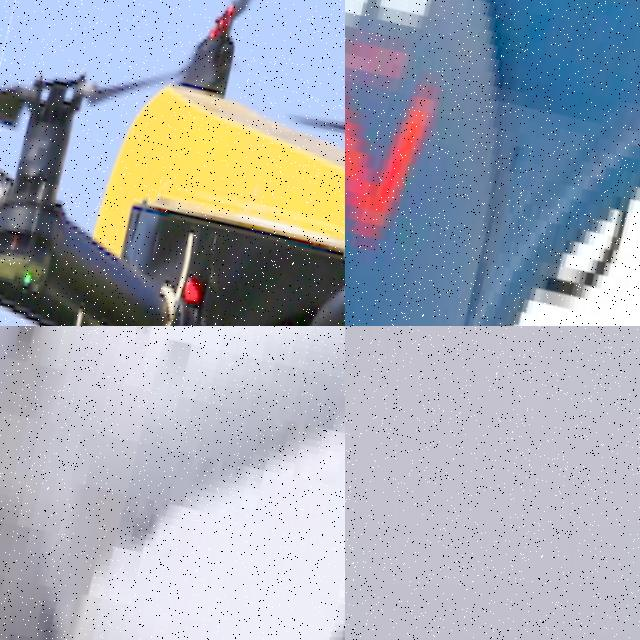0: (0, 326, 345, 640)
drone: (0, 0, 345, 326), (345, 0, 640, 326)
